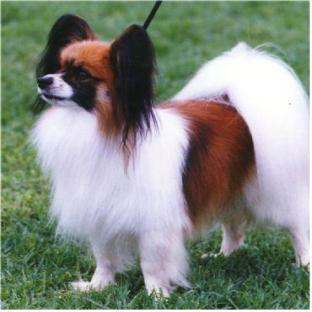Animal: (31, 15, 309, 296)
